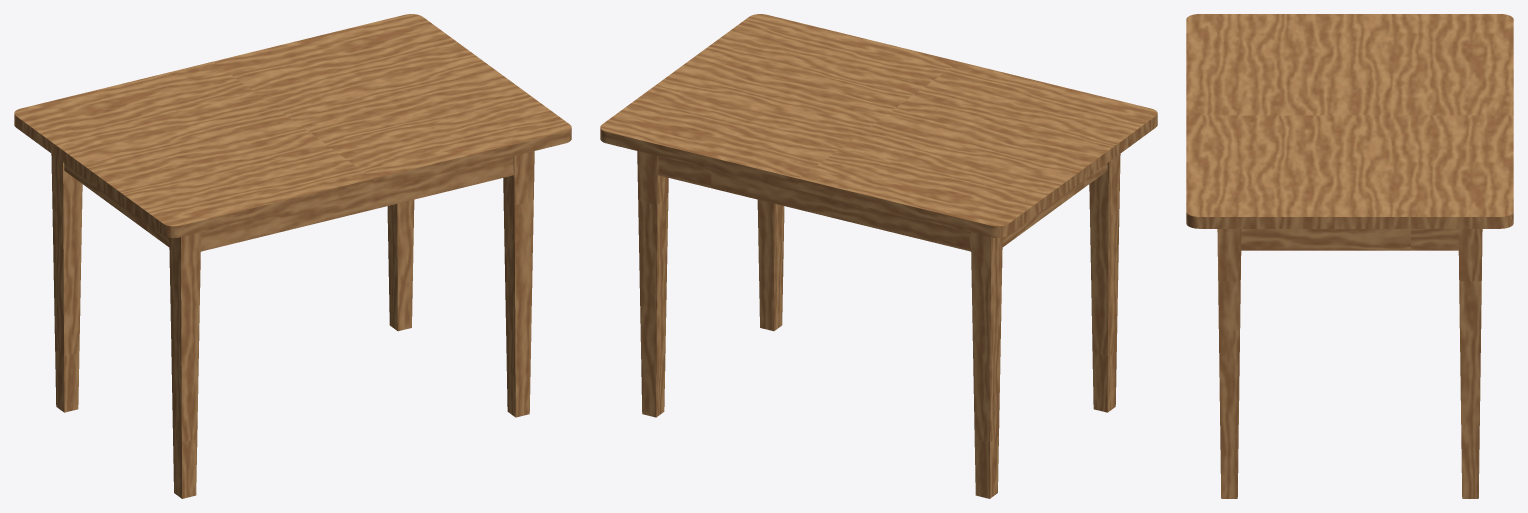
3 views of the same model, side by side, from view 1: azimuth 30°, elevation 25°; view 2: azimuth 150°, elevation 25°; view 3: azimuth 270°, elevation 25° (orthographic). The views are drawn at different scales.
Parts seen in each view (by area): view 1: Kitchen table, wooden; view 2: Kitchen table, wooden; view 3: Kitchen table, wooden.
Boxes of the visible parts, box(x1,y1,x2,y2) form: Kitchen table, wooden: box(14, 14, 571, 498); Kitchen table, wooden: box(600, 14, 1157, 498); Kitchen table, wooden: box(1186, 14, 1513, 498).
Bounding box in the file's own units: 1.1 × 0.75 × 0.75.
Materials: 1 (1 with a texture image).
